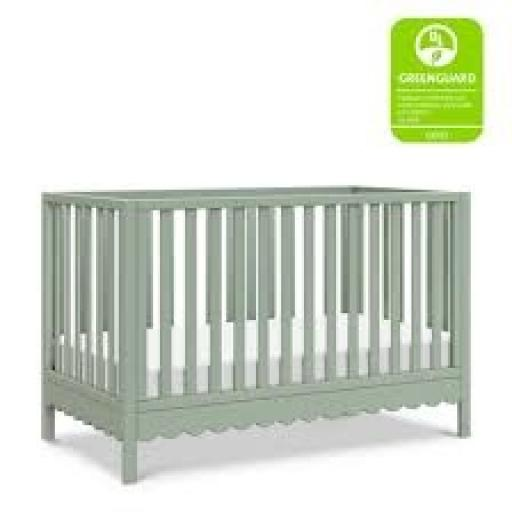crib: (42, 185, 472, 483)
